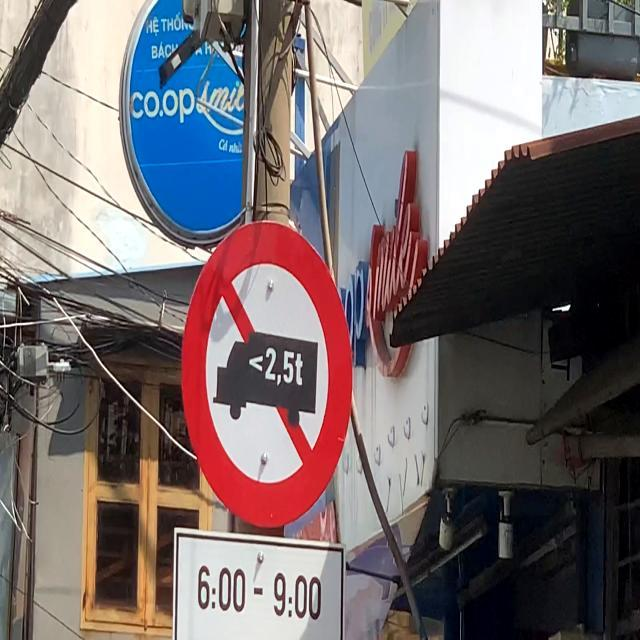Cam xe tai tren 2_5: (182, 208, 354, 526)
